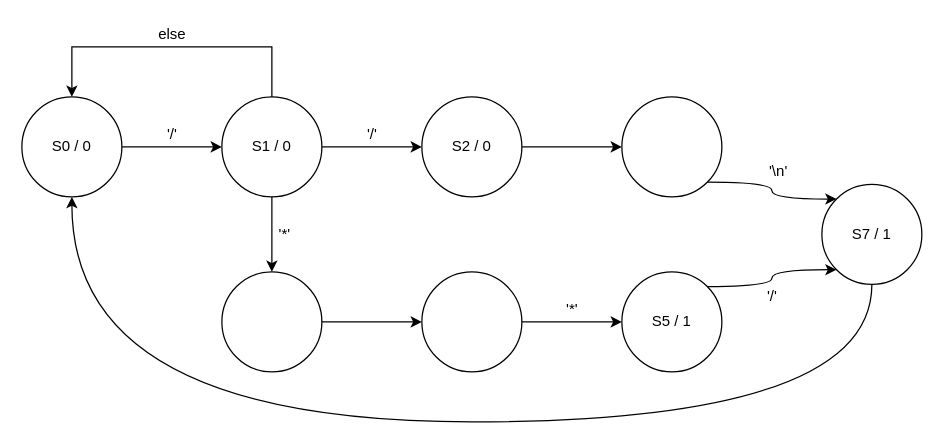
This 944x444 diagram has some shape labels left out. Here are the shapes that lost their labels. From the top down, the centre of each, then its label:
(671,146): S6 / 1
(271,321): S3 / 0
(471,321): S4 / 1
